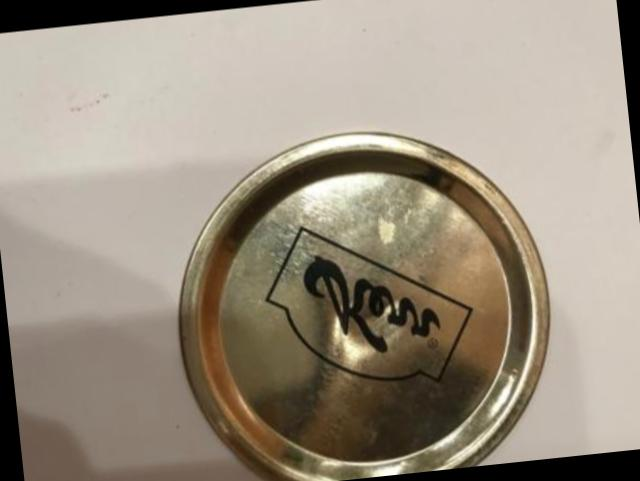metal: (181, 130, 550, 481)
